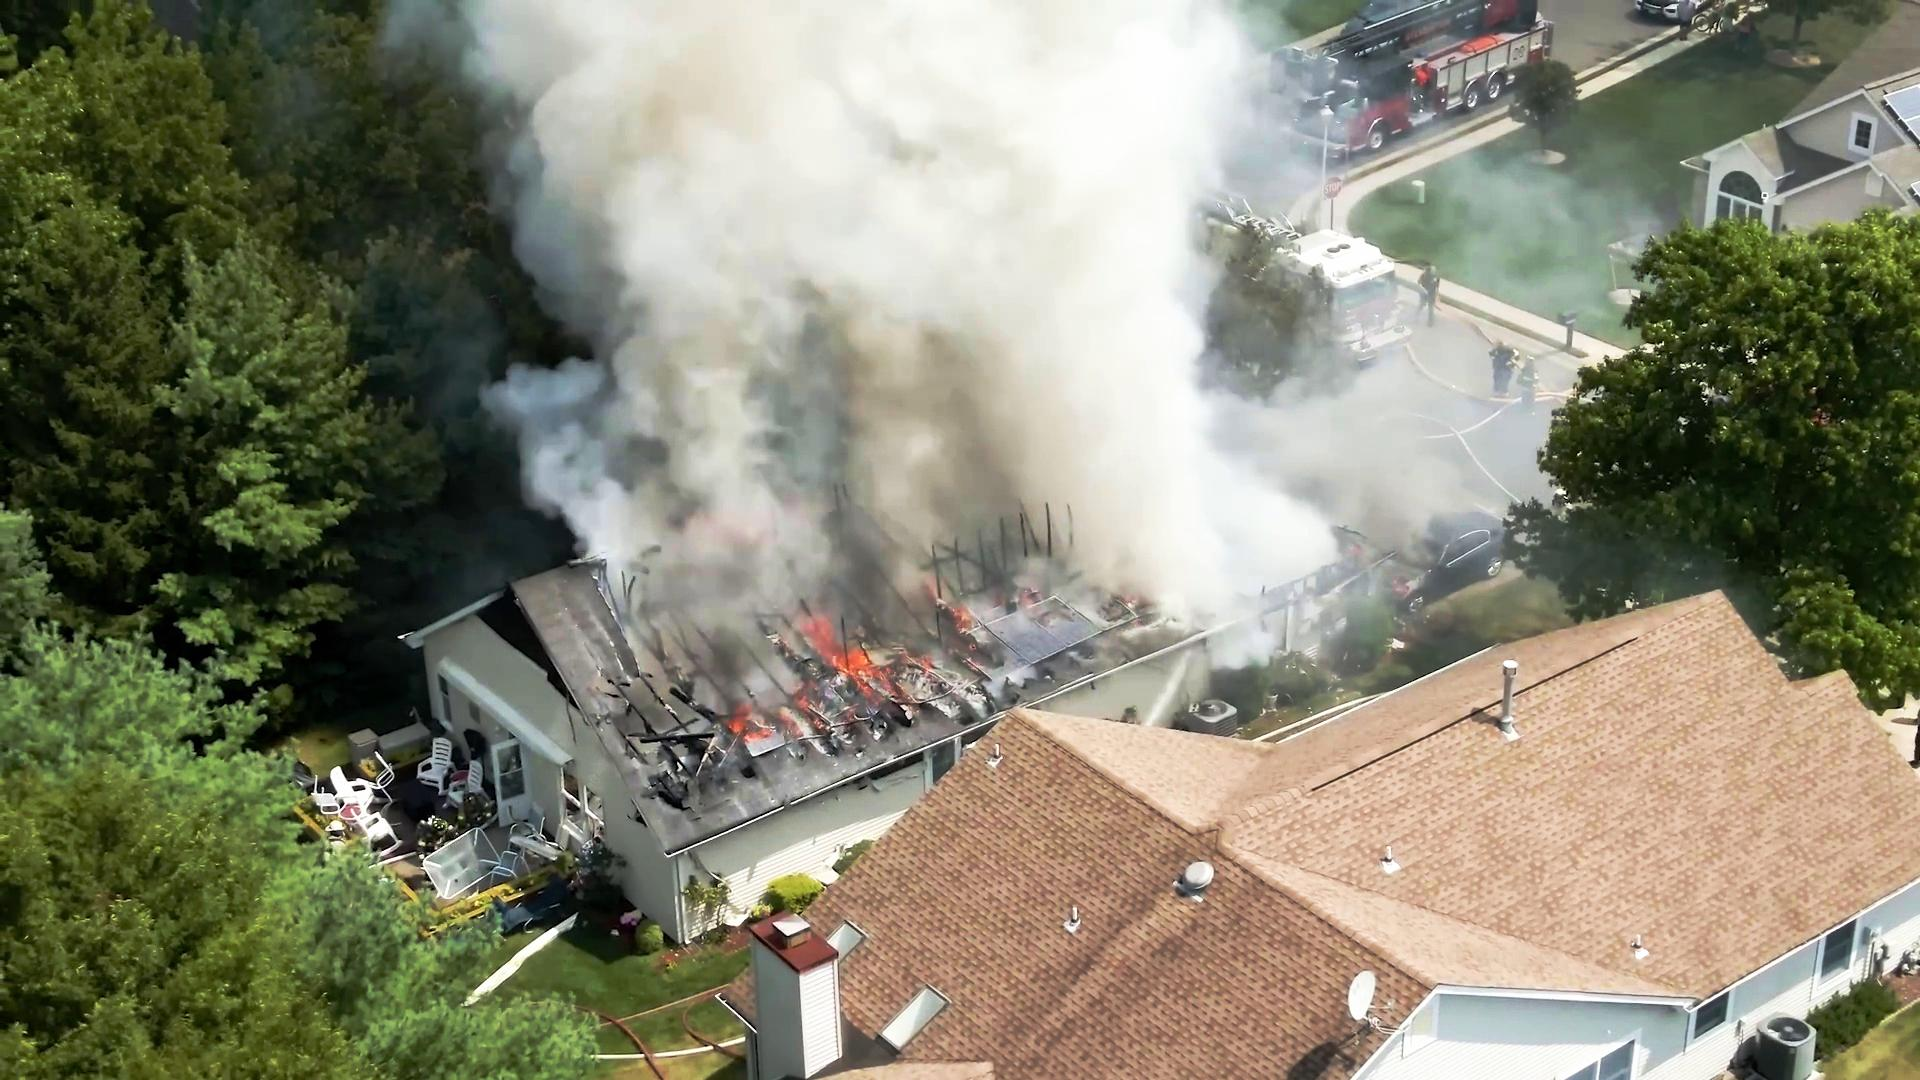smoke: (493, 0, 1189, 298), (558, 286, 1215, 553)
